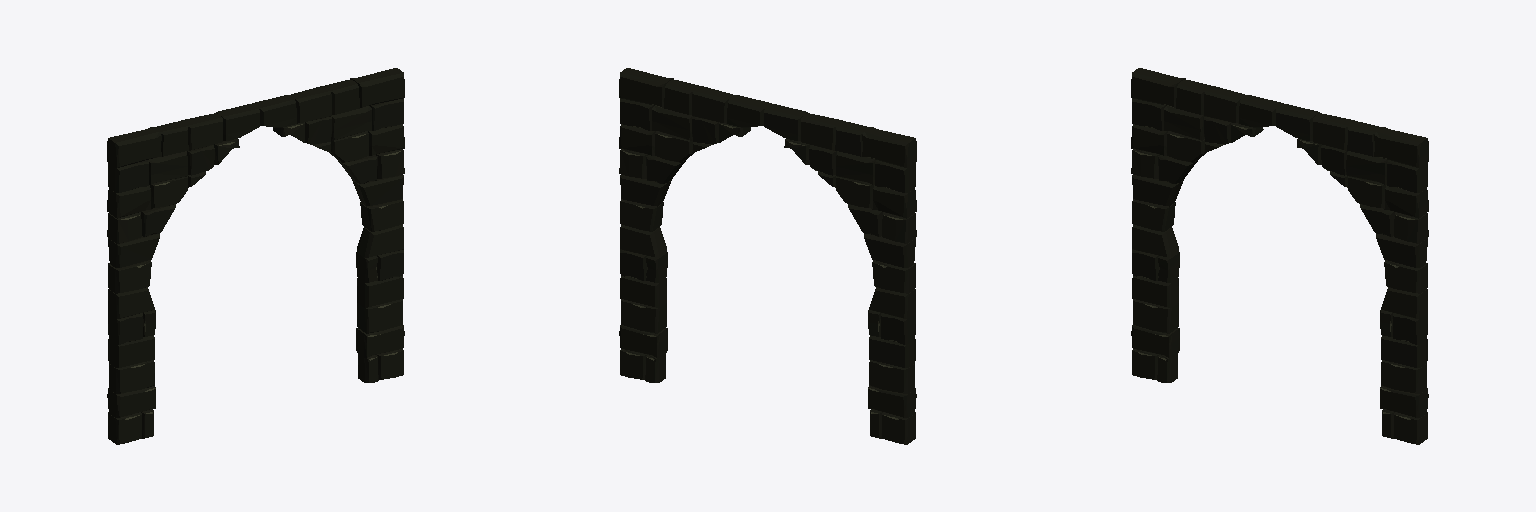
File: Wall_ArchGothic.obj
3 views of the same model, side by side, from view 1: azimuth 30°, elevation 25°; view 2: azimuth 150°, elevation 25°; view 3: azimuth 330°, elevation 25° (orthographic).
Visible parts, largest first — view 1: Wall_ArchGothic_Cube.045; view 2: Wall_ArchGothic_Cube.045; view 3: Wall_ArchGothic_Cube.045.
Part boxes in pixels (left/top/right/bottom): Wall_ArchGothic_Cube.045: left=107, top=68, right=404, bottom=444; Wall_ArchGothic_Cube.045: left=619, top=68, right=916, bottom=444; Wall_ArchGothic_Cube.045: left=1131, top=68, right=1428, bottom=444.
Bounding box in the file's own units: 4 × 3.99 × 0.2856.